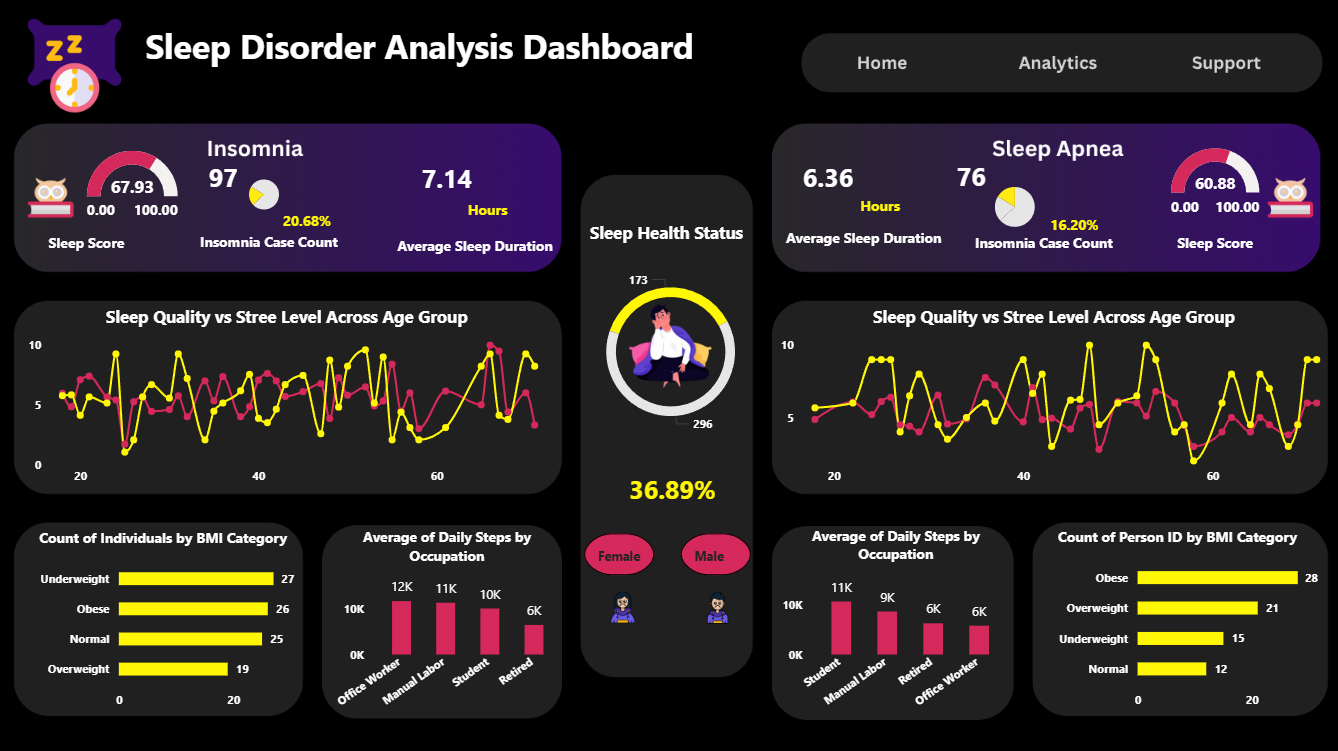

The dashboard page shown, as its layout file describes it:
{"tool":"powerbi","page":{"name":"Page 1","canvas":[1280,720],"ordinal":0},"visuals":[{"type":"textbox","box":[127.7,19.9,546.1,56.3],"z":0},{"type":"card","fields":{"Values":["SleepDisorder_Dataset.Insomia_Count"]},"box":[180.5,154.7,65.6,37.5],"z":1000},{"type":"card","fields":{"Values":["SleepDisorder_Dataset.SleepApnea_Count"]},"box":[890.6,153.5,71.5,37.5],"z":2000},{"type":"card","fields":{"Values":["SleepDisorder_Dataset.AvgSleep duration _Insomnia"]},"box":[387.9,148.8,77.3,50.4],"z":3000},{"type":"card","fields":{"Values":["SleepDisorder_Dataset.AvgSleep duration _sleepapnea"]},"box":[740.6,146.5,98.4,53.9],"z":4000},{"type":"gauge","fields":{"Y":["SleepDisorder_Dataset.SleepScore_insomnia"]},"box":[73.8,141.8,106.6,80.9],"z":5000},{"type":"gauge","fields":{"Y":["SleepDisorder_Dataset.SleepScore_SleepApnea"]},"box":[1092.2,139.5,133.6,79.7],"z":6000},{"type":"card","fields":{"Values":["SleepDisorder_Dataset.Insomnia percemtage"]},"box":[257.8,200.4,70.3,30.5],"z":7000},{"type":"card","fields":{"Values":["SleepDisorder_Dataset.SleepApnea percemtage"]},"box":[986.7,200.4,75,38.7],"z":8000},{"type":"pieChart","fields":{"Category":["SleepDisorder_Dataset.Sleep Disorder"],"Y":["CountNonNull(SleepDisorder_Dataset.Sleep Disorder)"]},"box":[229.7,164.1,45.7,48],"z":9000},{"type":"pieChart","fields":{"Category":["SleepDisorder_Dataset.Sleep Disorder"],"Y":["CountNonNull(SleepDisorder_Dataset.Sleep Disorder)"]},"box":[918.8,171.1,97.3,57.4],"z":10000},{"type":"textbox","box":[37.5,220.3,90.2,39.8],"z":11000},{"type":"textbox","box":[1113.3,220.3,90.2,39.8],"z":12000},{"type":"textbox","box":[364.5,222.7,178.1,39.8],"z":13000},{"type":"textbox","box":[734.8,215.6,178.1,39.8],"z":14000},{"type":"textbox","box":[174.6,219.1,164.1,39.8],"z":15000},{"type":"textbox","box":[912.9,220.3,164.1,39.8],"z":16000},{"type":"lineChart","title":"Sleep Quality vs Stree Level Across Age Group","fields":{"Category":["SleepDisorder_Dataset.Age"],"Y":["SleepDisorder_Dataset.AvgQualitysleep_Insomnia"],"Y2":["SleepDisorder_Dataset.AvgStressLevel Insomnia"]},"box":[22.3,293,502.7,180.5],"z":17000},{"type":"lineChart","title":"Sleep Quality vs Stree Level Across Age Group","fields":{"Category":["SleepDisorder_Dataset.Age"],"Y":["SleepDisorder_Dataset.AvgQualitysleep_SleepApnea","SleepDisorder_Dataset.AvgStressLevel SleepApnea"]},"box":[739.5,293,530.9,180.5],"z":18000},{"type":"barChart","title":"Count of Individuals by BMI Category","fields":{"Category":["SleepDisorder_Dataset.BMI Category"],"Y":["CountNonNull(SleepDisorder_Dataset.Person ID)"]},"box":[32.8,506.3,260.2,180.5],"z":19000},{"type":"barChart","fields":{"Category":["SleepDisorder_Dataset.BMI Category"],"Y":["CountNonNull(SleepDisorder_Dataset.Person ID)"]},"box":[1003.1,505.1,264.8,181.6],"z":20000},{"type":"columnChart","fields":{"Y":["Avg(SleepDisorder_Dataset.Daily Steps)"],"Category":["SleepDisorder_Dataset.Occupation"]},"box":[310.6,505.1,232,181.6],"z":21000},{"type":"columnChart","fields":{"Category":["SleepDisorder_Dataset.Occupation"],"Y":["Avg(SleepDisorder_Dataset.Daily Steps)"]},"box":[740.6,503.9,227.3,182.8],"z":22000},{"type":"donutChart","fields":{"Y":["SleepDisorder_Dataset.Sleep Disorder Count","SleepDisorder_Dataset.No Sleep Disorder Count"]},"box":[525,181.6,229.7,311.7],"z":23000},{"type":"card","fields":{"Values":["SleepDisorder_Dataset.sleep disorder percentage"]},"box":[564.9,447.7,154.7,45.7],"z":24000},{"type":"advancedSlicerVisual","fields":{"Values":["SleepDisorder_Dataset.Gender"]},"box":[552,506.3,169,50],"z":25000},{"type":"textbox","box":[414.9,188.7,102,30.5],"z":25001},{"type":"textbox","box":[788.7,184,102,30.5],"z":25002},{"type":"textbox","box":[553.1,208.6,164.1,39.8],"z":25003}]}

Visuals, with their boxes in screenshot pixels (x1, y1, x2, y2), scaled from the page's 1280x720 canvas onto the 1338x751 screenshot:
textbox: 133,21,704,79
card - SleepDisorder_Dataset.Insomia_Count: 189,161,257,200
card - SleepDisorder_Dataset.SleepApnea_Count: 931,160,1006,199
card - SleepDisorder_Dataset.AvgSleep duration _Insomnia: 405,155,486,208
card - SleepDisorder_Dataset.AvgSleep duration _sleepapnea: 774,153,877,209
gauge - SleepDisorder_Dataset.SleepScore_insomnia: 77,148,189,232
gauge - SleepDisorder_Dataset.SleepScore_SleepApnea: 1142,146,1281,229
card - SleepDisorder_Dataset.Insomnia percemtage: 269,209,343,241
card - SleepDisorder_Dataset.SleepApnea percemtage: 1031,209,1110,249
pieChart - SleepDisorder_Dataset.Sleep Disorder x CountNonNull(SleepDisorder_Dataset.Sleep Disorder): 240,171,288,221
pieChart - SleepDisorder_Dataset.Sleep Disorder x CountNonNull(SleepDisorder_Dataset.Sleep Disorder): 960,178,1062,238
textbox: 39,230,133,271
textbox: 1164,230,1258,271
textbox: 381,232,567,274
textbox: 768,225,954,266
textbox: 183,229,354,270
textbox: 954,230,1126,271
"Sleep Quality vs Stree Level Across Age Group" lineChart: 23,306,549,494
"Sleep Quality vs Stree Level Across Age Group" lineChart: 773,306,1328,494
"Count of Individuals by BMI Category" barChart: 34,528,306,716
barChart - SleepDisorder_Dataset.BMI Category x CountNonNull(SleepDisorder_Dataset.Person ID): 1049,527,1325,716
columnChart - Avg(SleepDisorder_Dataset.Daily Steps) x SleepDisorder_Dataset.Occupation: 325,527,567,716
columnChart - SleepDisorder_Dataset.Occupation x Avg(SleepDisorder_Dataset.Daily Steps): 774,526,1012,716
donutChart - SleepDisorder_Dataset.Sleep Disorder Count x SleepDisorder_Dataset.No Sleep Disorder Count: 549,189,789,515
card - SleepDisorder_Dataset.sleep disorder percentage: 590,467,752,515
advancedSlicerVisual - SleepDisorder_Dataset.Gender: 577,528,754,580
textbox: 434,197,540,229
textbox: 824,192,931,224
textbox: 578,218,750,259
